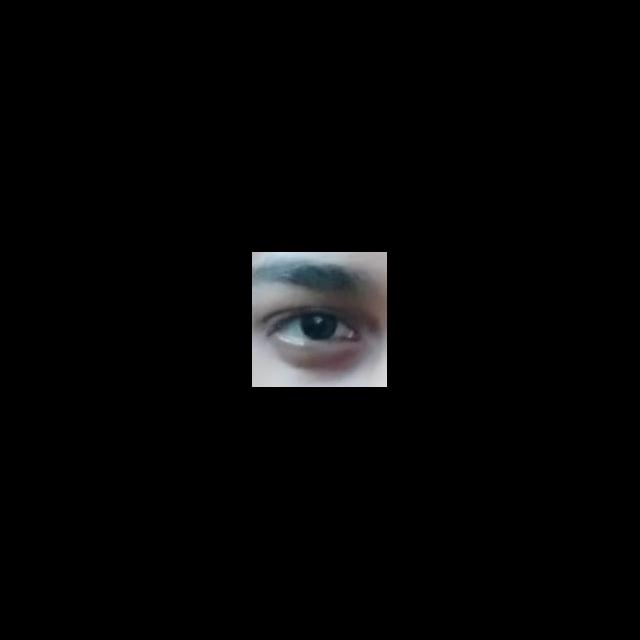eye: (280, 313, 351, 341)
iris: (301, 314, 337, 339)
